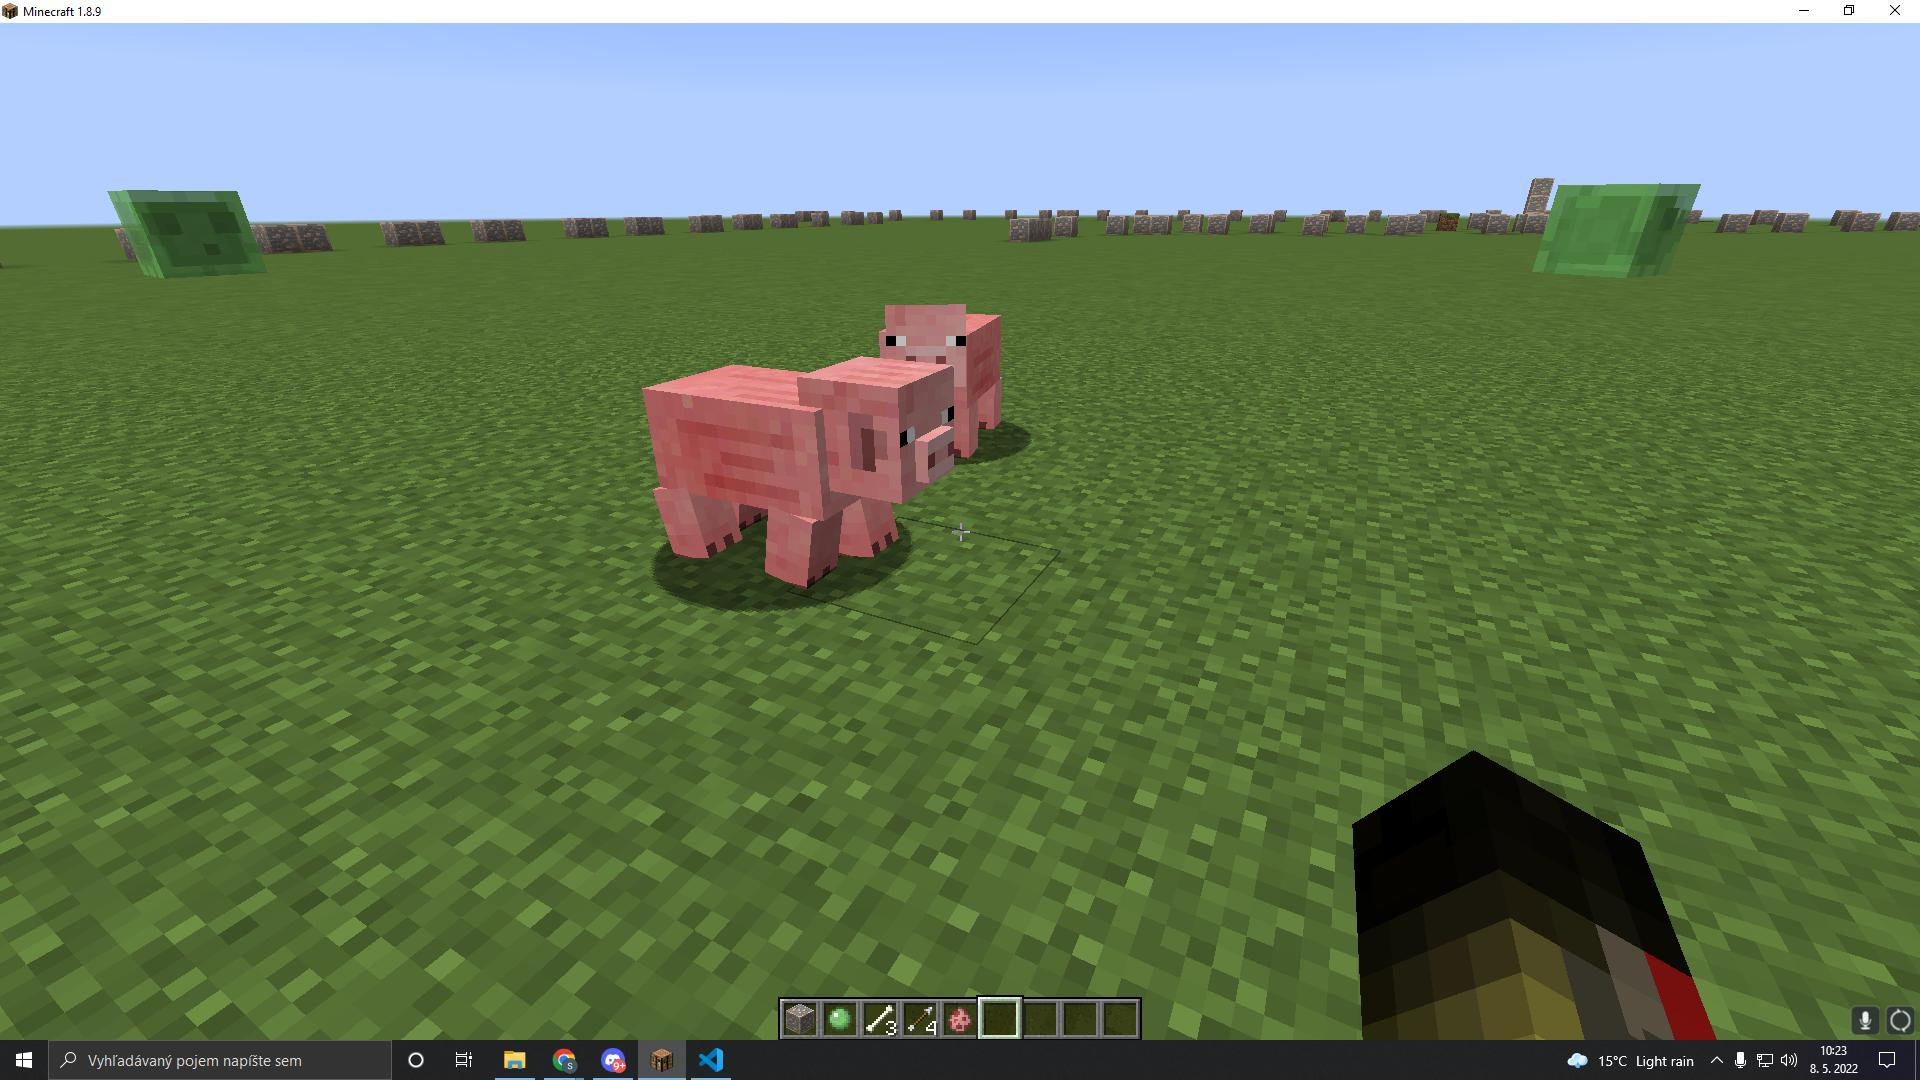pig: (611, 352, 964, 608), (861, 290, 1021, 459)
